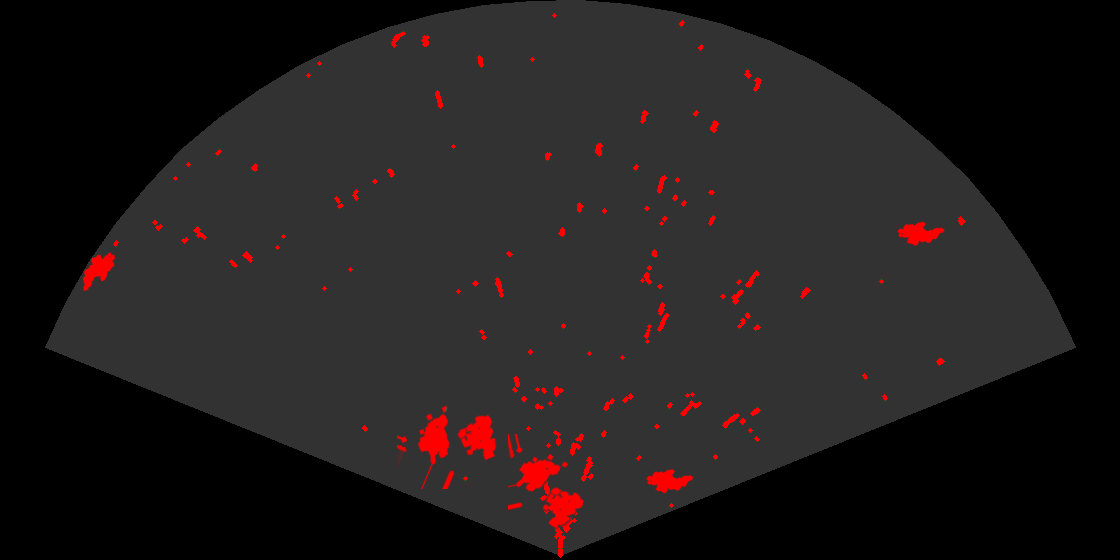AUV: (81, 251, 117, 293), (645, 468, 695, 495), (896, 220, 946, 247)
cage: (397, 404, 498, 489), (508, 434, 585, 530)
